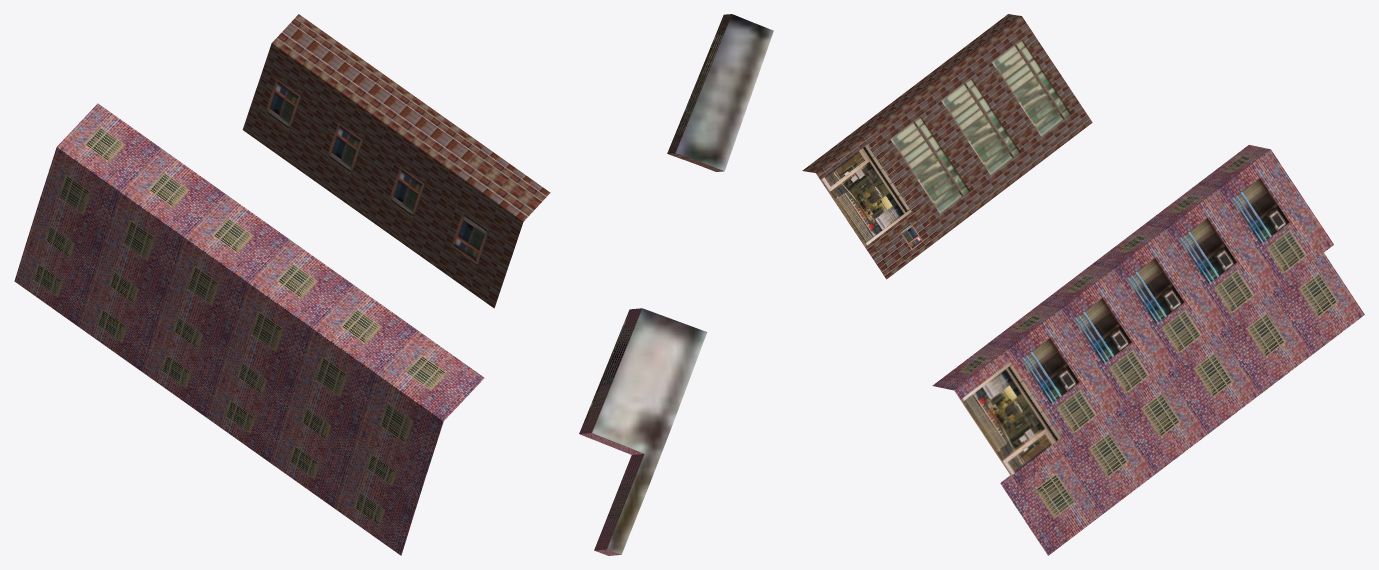
The picture shows the model from 3 angles, left to right: view 1: azimuth 30°, elevation 25°; view 2: azimuth 150°, elevation 25°; view 3: azimuth 270°, elevation 25°; orthographic projection. The views are drawn at different scales.
Size of the model in its own units: 12.35 by 25.4 by 26.37.
Materials: 8 (8 with a texture image).
